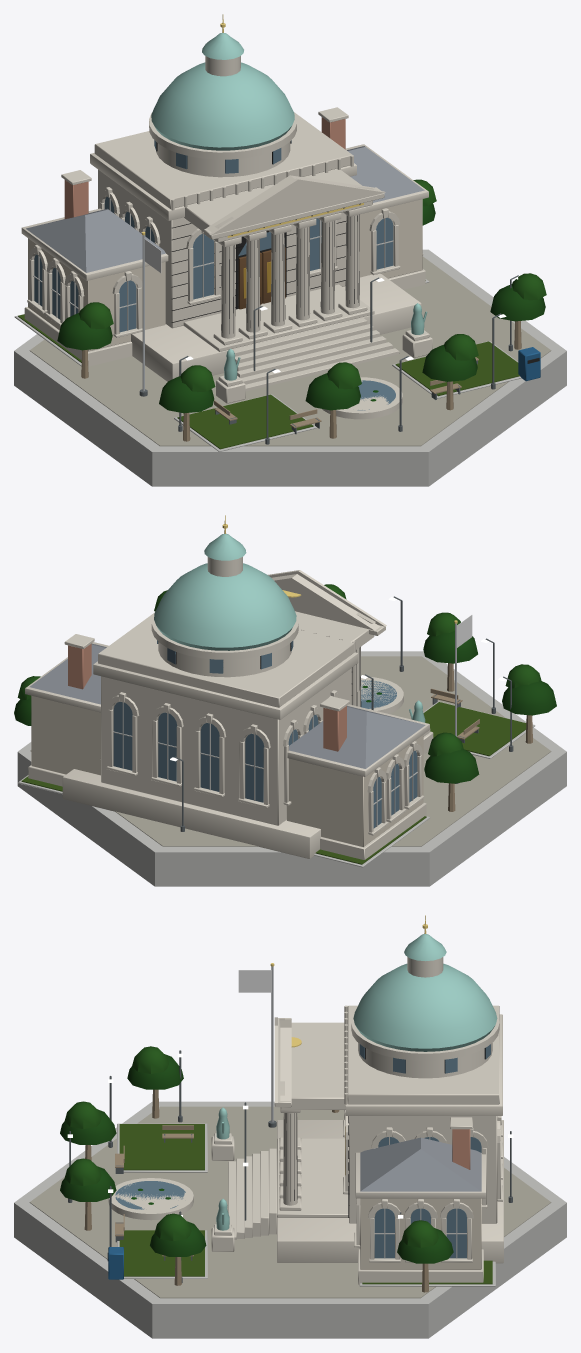
The model's file is library.glb.
3 renders of one model, top to bottom at view 1: azimuth 30°, elevation 25°; view 2: azimuth 150°, elevation 25°; view 3: azimuth 270°, elevation 25°, orthographic.
Parts seen in each view (by area): view 1: stone, wall_concrete, pavers, copper, leaf, roof_slate, turf, glass, dark, wood, steel_dark, brick (+2 smaller); view 2: stone, wall_concrete, pavers, copper, glass, leaf, roof_slate, turf, brick, wood, steel_dark; view 3: stone, wall_concrete, pavers, copper, leaf, turf, roof_slate, glass, wood, steel_dark, banner, brick (+2 smaller).
Boxes of the visible parts, left/top/right/bottom form: stone: left=21, top=56, right=432, bottom=419; wall_concrete: left=14, top=198, right=566, bottom=486; pavers: left=29, top=256, right=551, bottom=446; copper: left=151, top=33, right=427, bottom=380; leaf: left=57, top=179, right=546, bottom=413; roof_slate: left=26, top=146, right=424, bottom=272; turf: left=18, top=280, right=519, bottom=449; glass: left=34, top=140, right=395, bottom=410; dark: left=156, top=141, right=539, bottom=363; wood: left=81, top=247, right=521, bottom=441; steel_dark: left=139, top=275, right=518, bottom=444; brick: left=64, top=117, right=345, bottom=218; stone: left=25, top=557, right=433, bottom=859; wall_concrete: left=17, top=651, right=566, bottom=886; pavers: left=115, top=656, right=551, bottom=846; copper: left=154, top=533, right=425, bottom=722; glass: left=113, top=640, right=417, bottom=828; leaf: left=14, top=584, right=556, bottom=783; roof_slate: left=29, top=643, right=425, bottom=768; turf: left=21, top=702, right=526, bottom=864; brick: left=68, top=643, right=346, bottom=751; wood: left=430, top=663, right=532, bottom=811; steel_dark: left=175, top=596, right=513, bottom=831; stone: left=108, top=957, right=503, bottom=1284; wall_concrete: left=14, top=1101, right=566, bottom=1338; pavers: left=29, top=1106, right=551, bottom=1298; copper: left=216, top=934, right=497, bottom=1230; leaf: left=60, top=1046, right=453, bottom=1263; turf: left=119, top=1124, right=492, bottom=1284; roof_slate: left=360, top=1137, right=481, bottom=1191; glass: left=115, top=1044, right=490, bottom=1258; wood: left=84, top=1089, right=428, bottom=1292; steel_dark: left=68, top=1050, right=512, bottom=1282; banner: left=238, top=970, right=271, bottom=992; brick: left=452, top=1129, right=470, bottom=1169.
Bounding box in the file's own units: 21.41 × 15.8 × 24.6.
